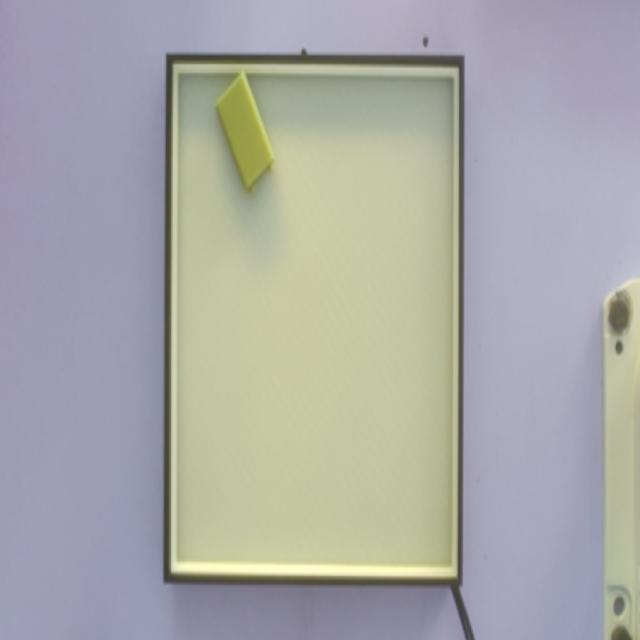bateria: (214, 69, 275, 194)
mesa: (163, 54, 464, 585)
